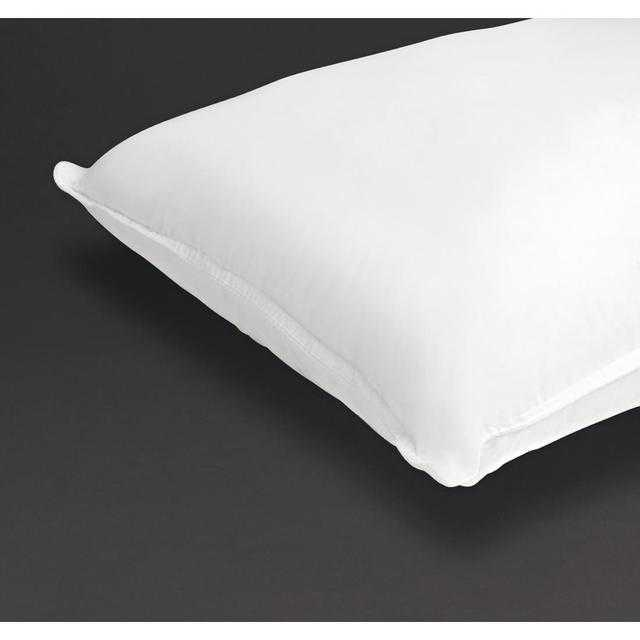pillow: (51, 16, 639, 488)
